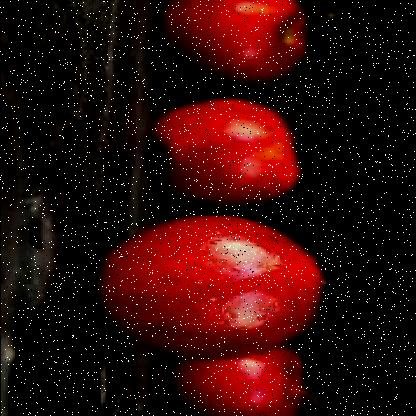apple: (105, 218, 318, 352), (158, 101, 298, 206), (158, 1, 309, 84), (170, 344, 328, 414)
